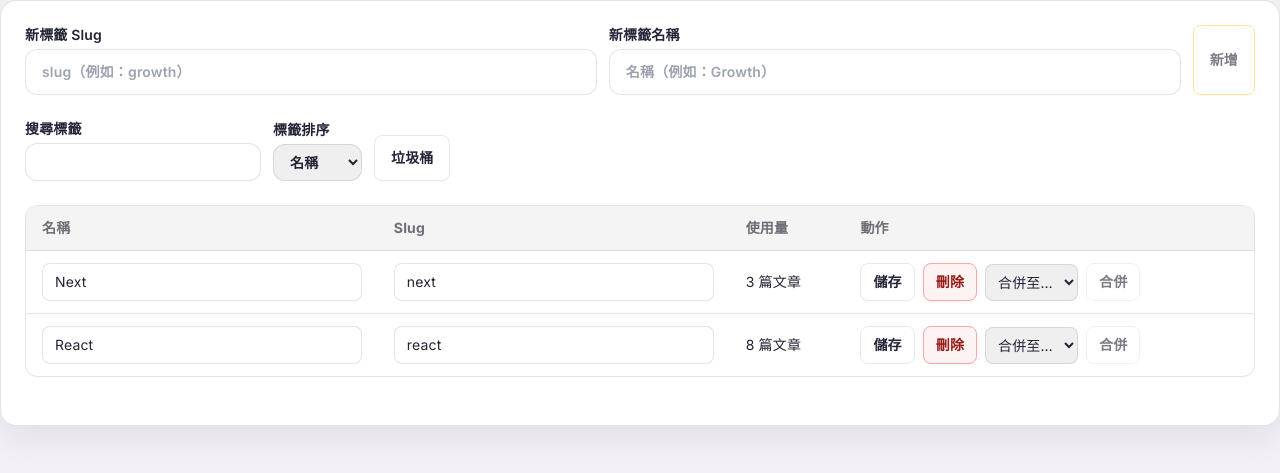
Scenario: TagAdminClient › updates a tag
Expected: the row showing "React" is shown, [26, 314, 1254, 376]
Clear the field showing "React" at (202, 345), box [42, 326, 362, 364]
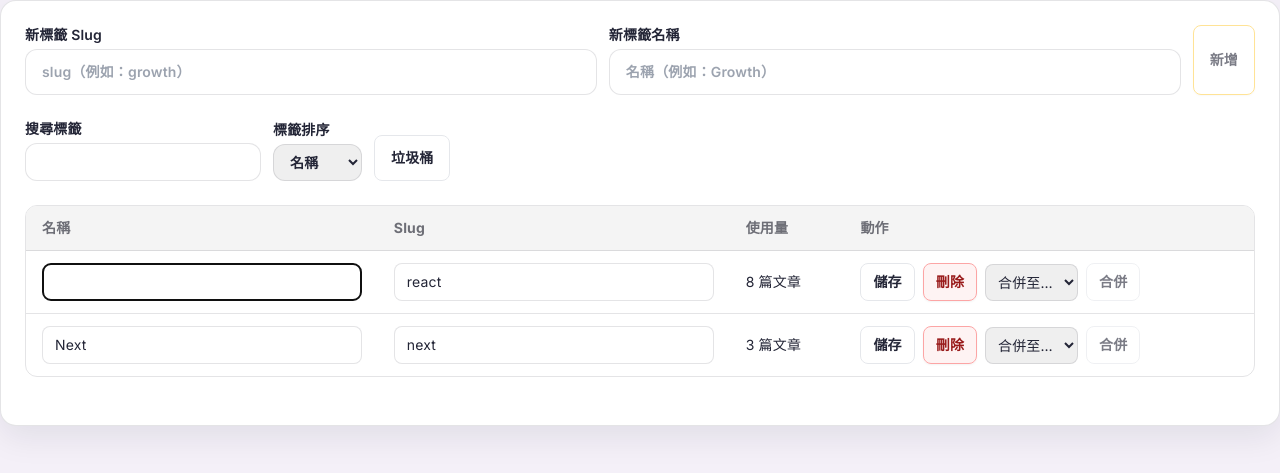
Type "React JS" into the field showing "React" at (202, 282), box [42, 263, 362, 301]
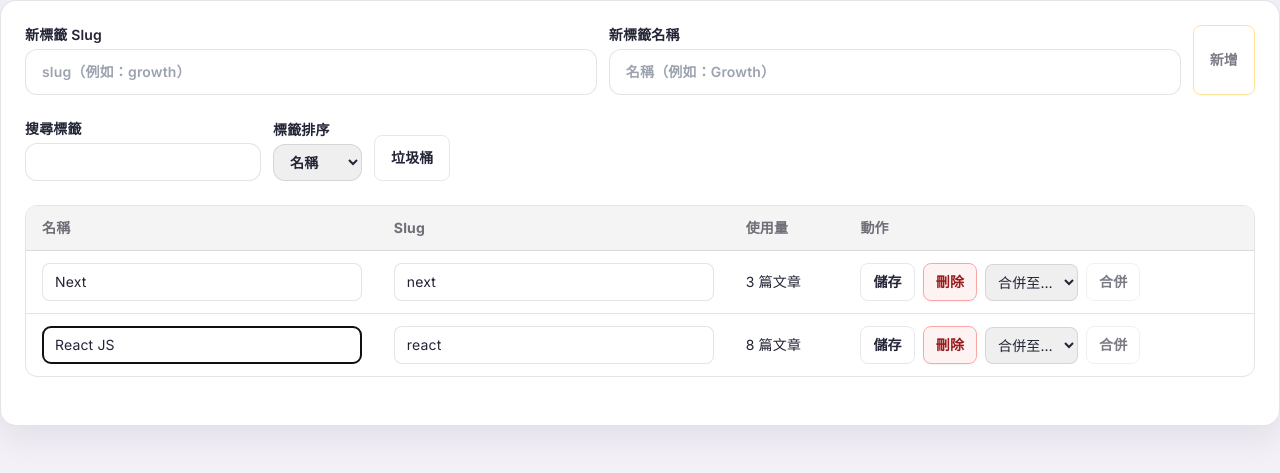
Click the 2nd button "儲存" at (888, 345), box [860, 326, 915, 364]
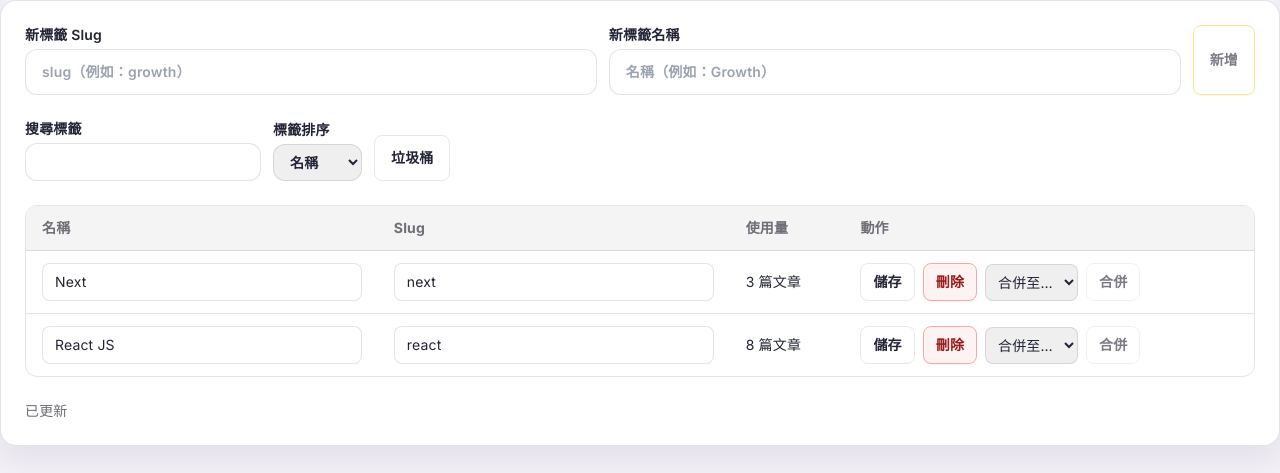
Now the text "已更新" is shown, box [25, 402, 68, 419]
